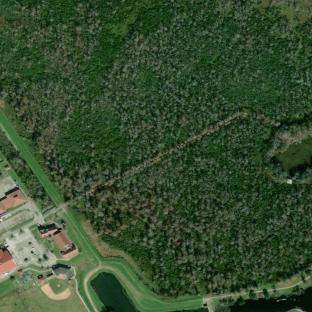Floresta: (0, 0, 312, 203), (84, 119, 312, 294), (0, 128, 52, 205)
